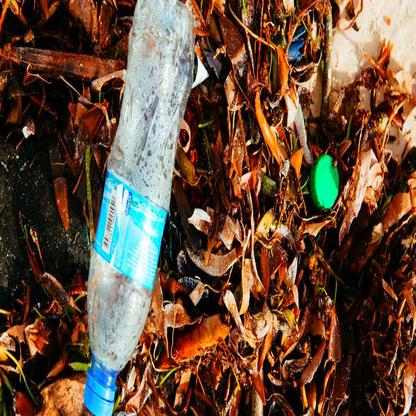plastic bottle: (84, 1, 193, 416)
